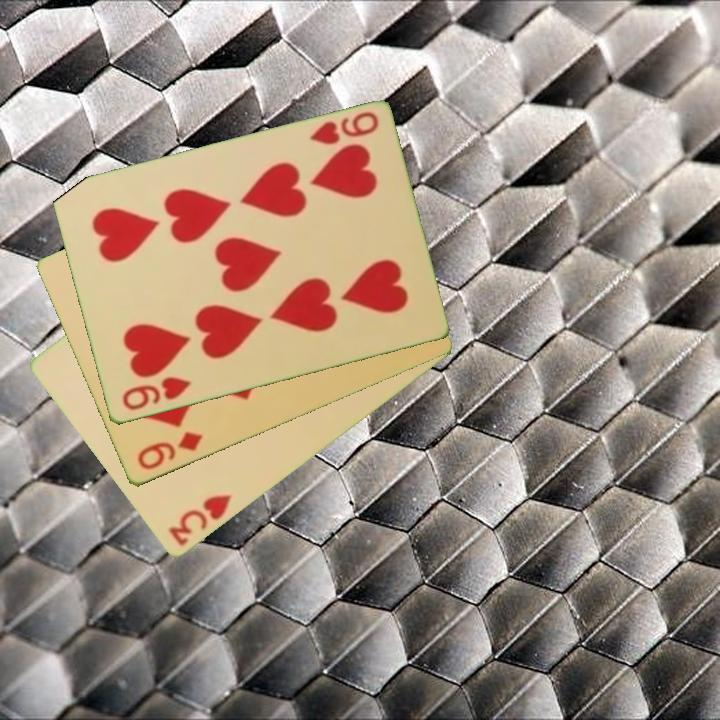3h: (165, 491, 235, 550)
9d: (133, 428, 206, 474)
9h: (118, 373, 193, 414), (306, 108, 381, 148)
